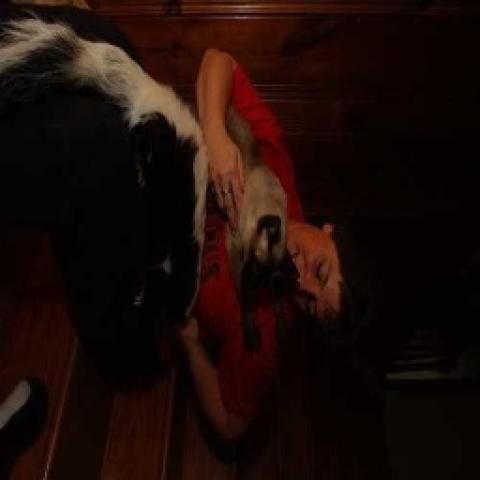small_animal: (0, 0, 208, 319)
